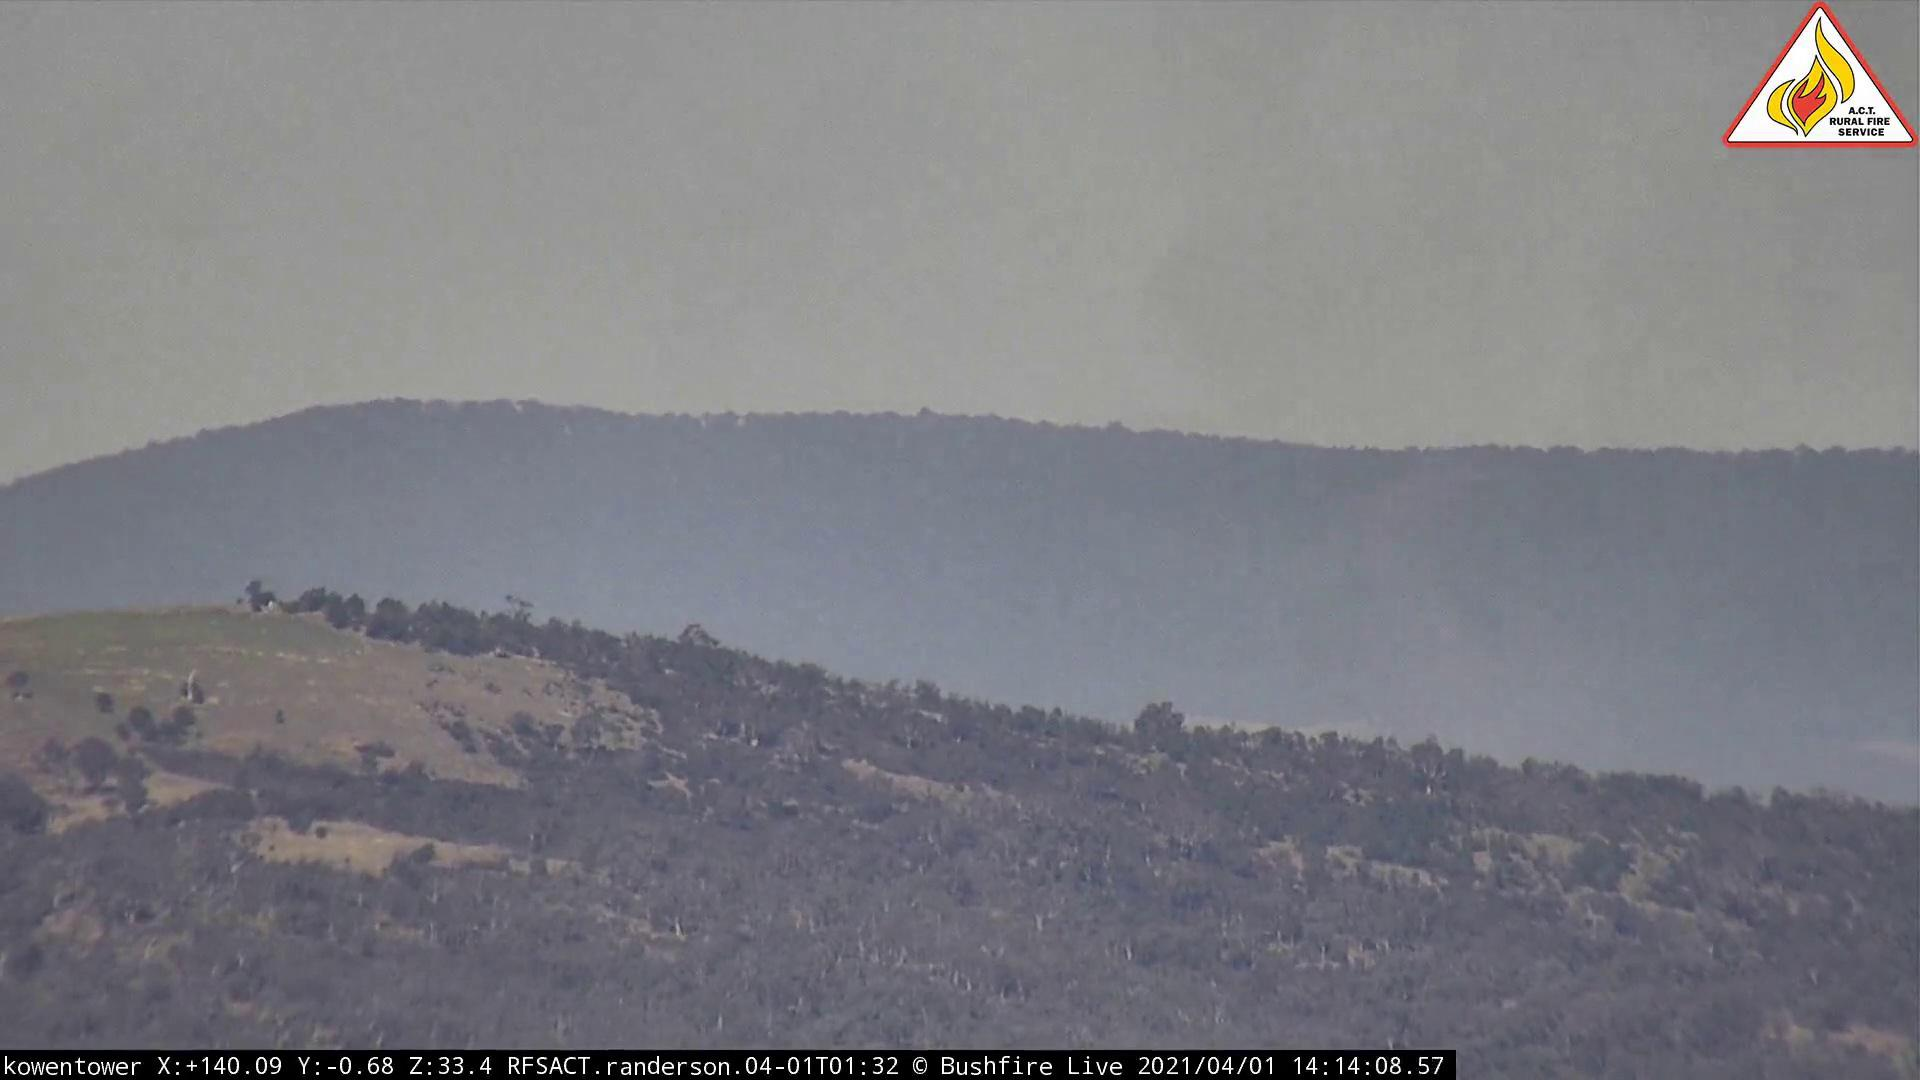Smoke: (1063, 200, 1898, 758)
